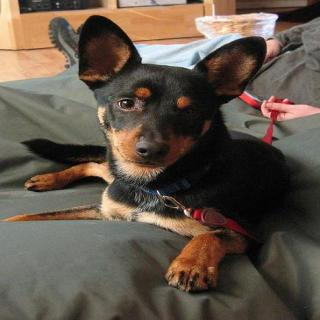dog: (76, 14, 262, 180)
nose: (132, 136, 171, 163)
